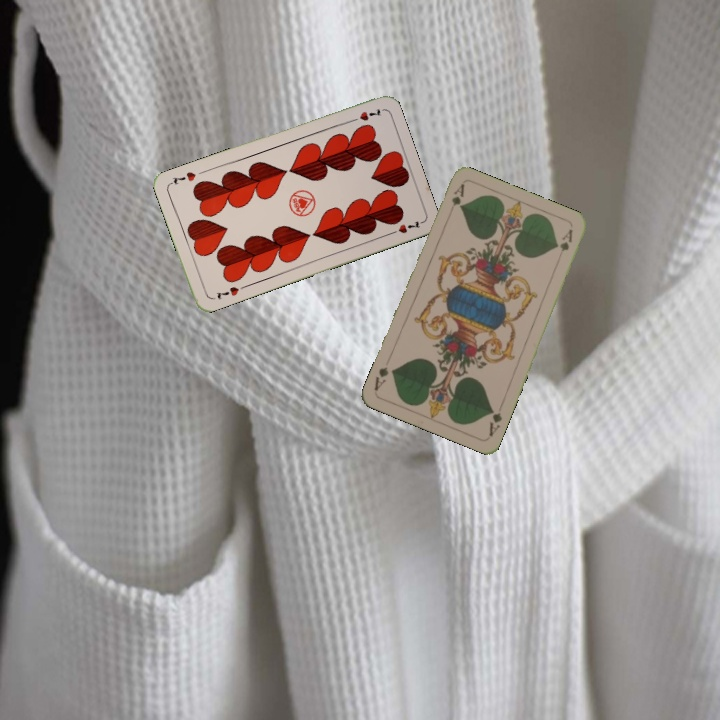GA: (485, 400, 505, 439), (447, 180, 467, 209)
H7: (345, 104, 384, 125), (212, 282, 248, 302)
